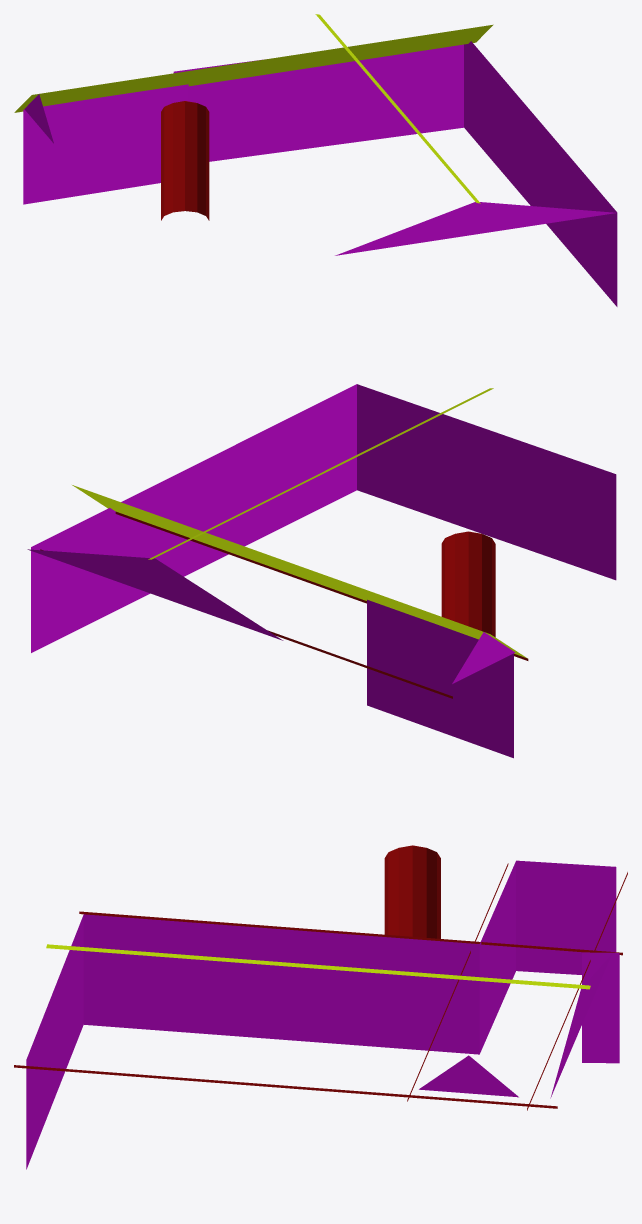
Rendered from ferme_parpaing.glb.
3 views of the same model, one above another, from view 1: azimuth 30°, elevation 25°; view 2: azimuth 150°, elevation 25°; view 3: azimuth 270°, elevation 25° (orthographic). The views are drawn at different scales.
Parts seen in each view (by area): view 1: ferme_parpaing; view 2: ferme_parpaing; view 3: ferme_parpaing.
Boxes of the visible parts, <box> form: ferme_parpaing: <box>14,14,617,306</box>; ferme_parpaing: <box>27,384,616,758</box>; ferme_parpaing: <box>14,845,627,1169</box>.
Bounding box in the file's own units: 25.18 × 8.21 × 26.25.
